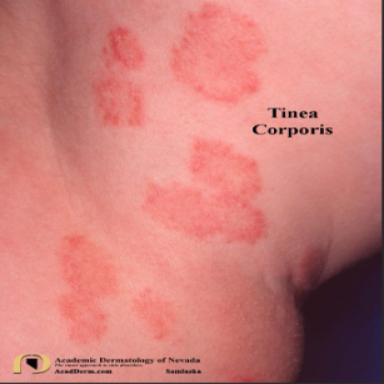Tinea-Corporis: (144, 139, 264, 243), (172, 3, 263, 102), (58, 235, 117, 342), (92, 26, 145, 126), (133, 288, 174, 339)
